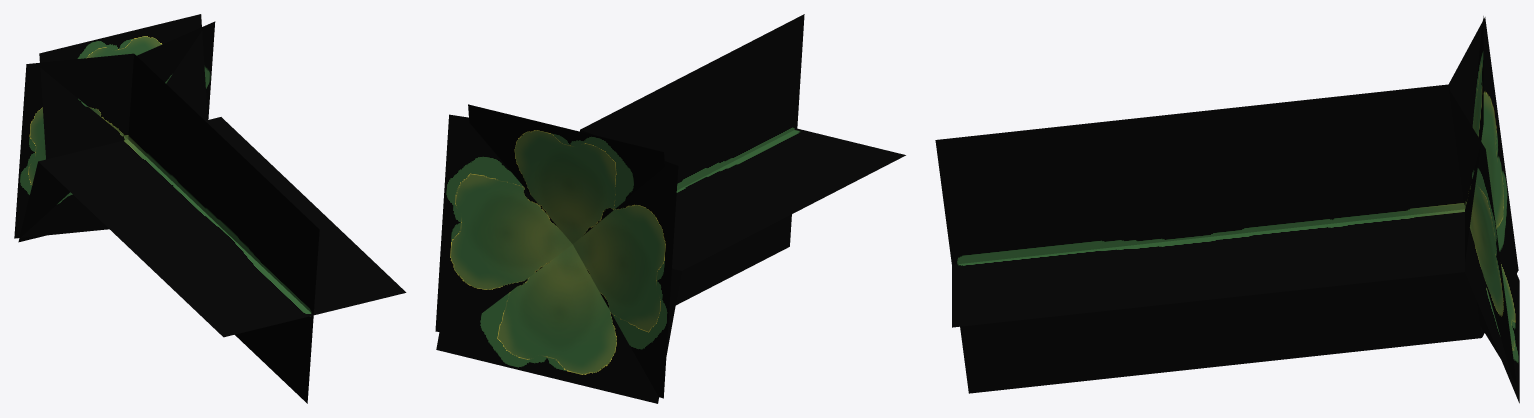
Rendered from cloverfbx.fbx.
3 views of the same model, side by side, from view 1: azimuth 30°, elevation 25°; view 2: azimuth 150°, elevation 25°; view 3: azimuth 270°, elevation 25° (orthographic). The views are drawn at different scales.
Visible parts, largest first — view 1: Plane.003; view 2: Plane.003; view 3: Plane.003.
Part boxes in pixels (left/top/right/bottom): Plane.003: left=14, top=14, right=406, bottom=403; Plane.003: left=435, top=14, right=905, bottom=403; Plane.003: left=935, top=16, right=1519, bottom=403.
Size of the model in its own units: 70.6 by 83.61 by 137.
